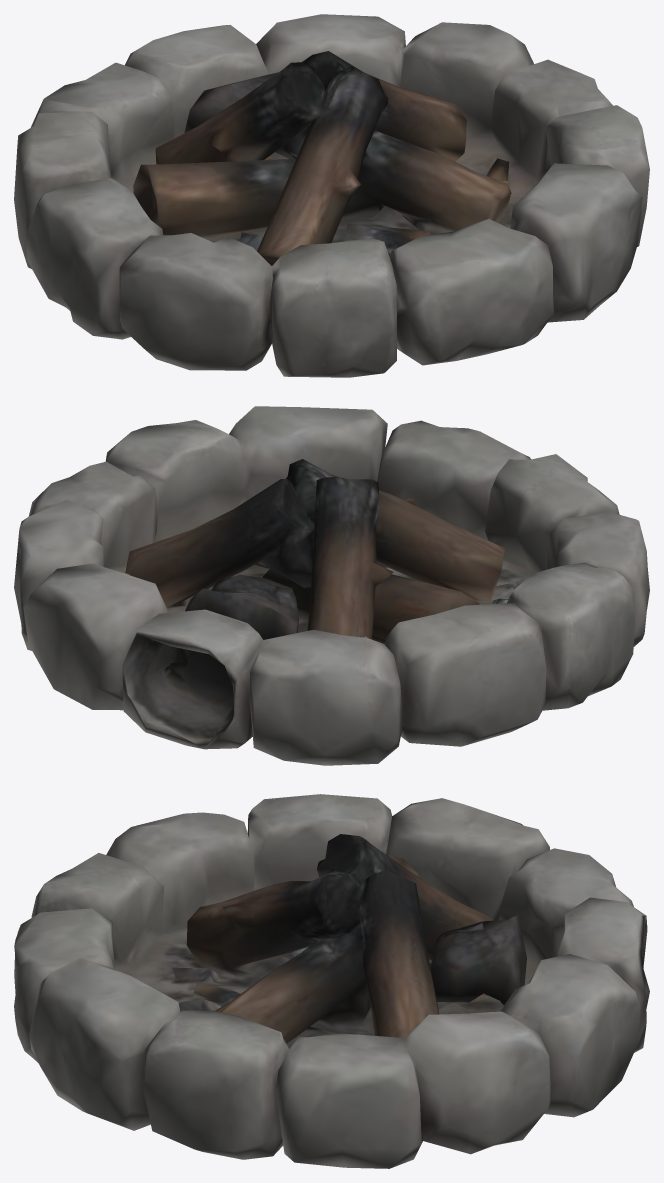
The model's file is fire_pit.glb.
3 renders of one model, top to bottom at view 1: azimuth 30°, elevation 25°; view 2: azimuth 150°, elevation 25°; view 3: azimuth 270°, elevation 25°, orthographic. The views are drawn at different scales.
Parts seen in each view (by area): view 1: tripo_node_d661b96d-f4b1-460f-9b6c-9f8b89e85be0; view 2: tripo_node_d661b96d-f4b1-460f-9b6c-9f8b89e85be0; view 3: tripo_node_d661b96d-f4b1-460f-9b6c-9f8b89e85be0.
Boxes of the visible parts, box(x1,y1,x2,y2) form: tripo_node_d661b96d-f4b1-460f-9b6c-9f8b89e85be0: box(14, 14, 649, 377); tripo_node_d661b96d-f4b1-460f-9b6c-9f8b89e85be0: box(14, 406, 649, 765); tripo_node_d661b96d-f4b1-460f-9b6c-9f8b89e85be0: box(14, 794, 649, 1168).
Size of the model in its own units: 0.9792 by 0.3158 by 0.9525.
1 material, 1 textured.
